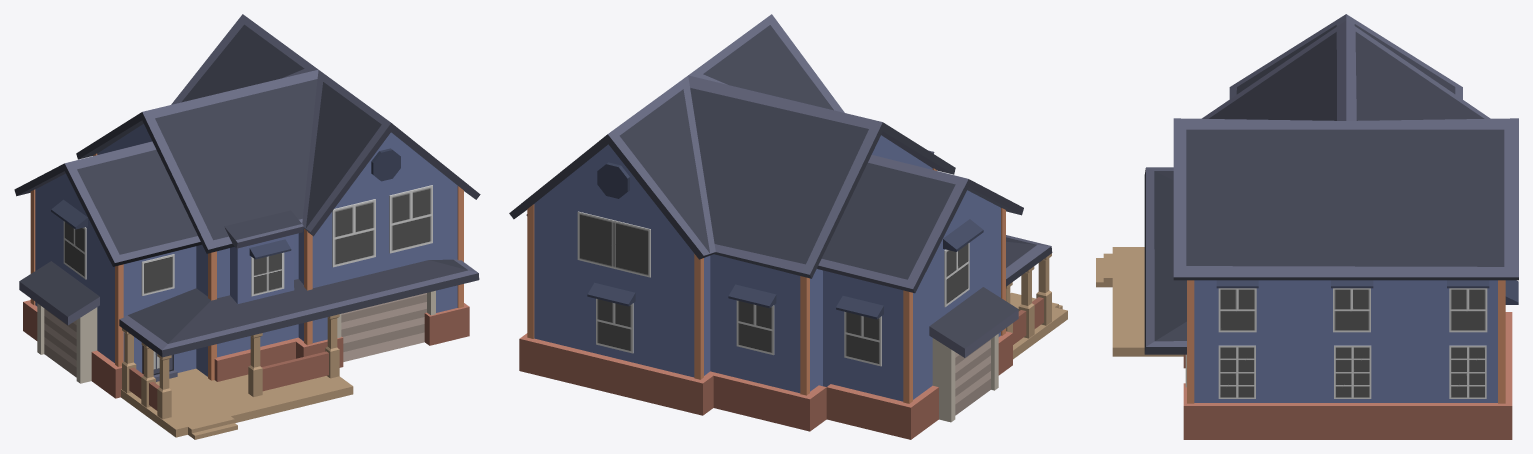
Rendered from house01_color01.fbx.
3 renders of one model, left to right at view 1: azimuth 30°, elevation 25°; view 2: azimuth 150°, elevation 25°; view 3: azimuth 270°, elevation 25°, orthographic. The views are drawn at different scales.
Visible parts, largest first — view 1: House01 V1; view 2: House01 V1; view 3: House01 V1.
Part boxes in pixels (x1=…): House01 V1: x1=14, y1=14, x2=480, y2=439; House01 V1: x1=509, y1=14, x2=1067, y2=439; House01 V1: x1=1096, y1=14, x2=1518, y2=439.
Size of the model in its own units: 1515 by 945 by 1317.
